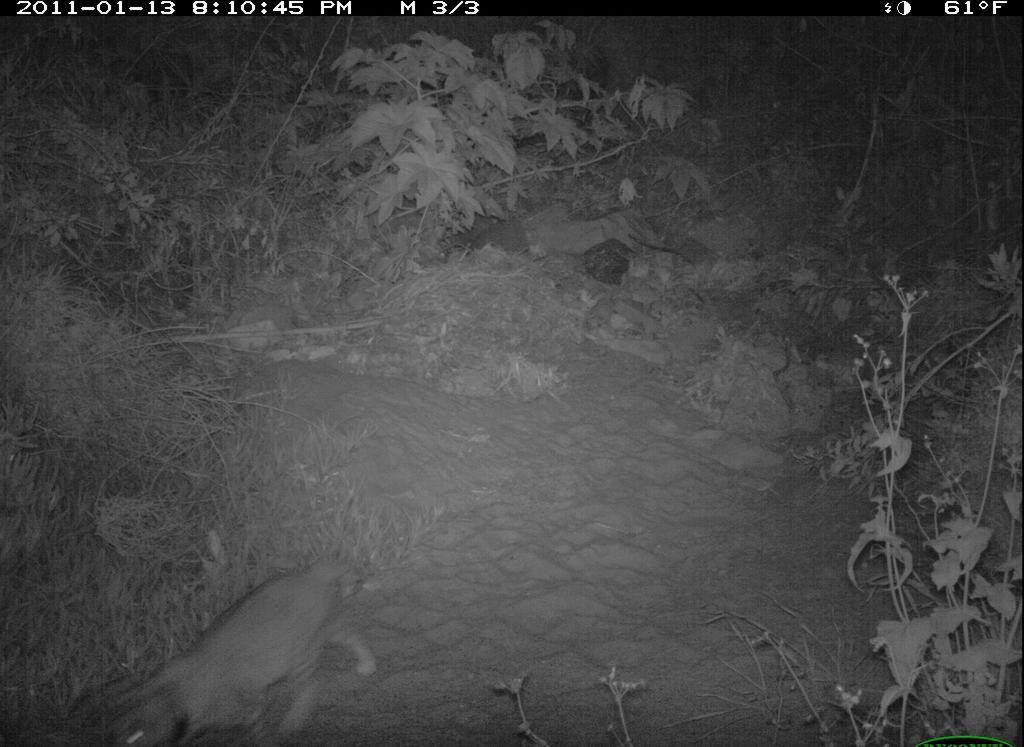bobcat: (82, 548, 378, 744)
